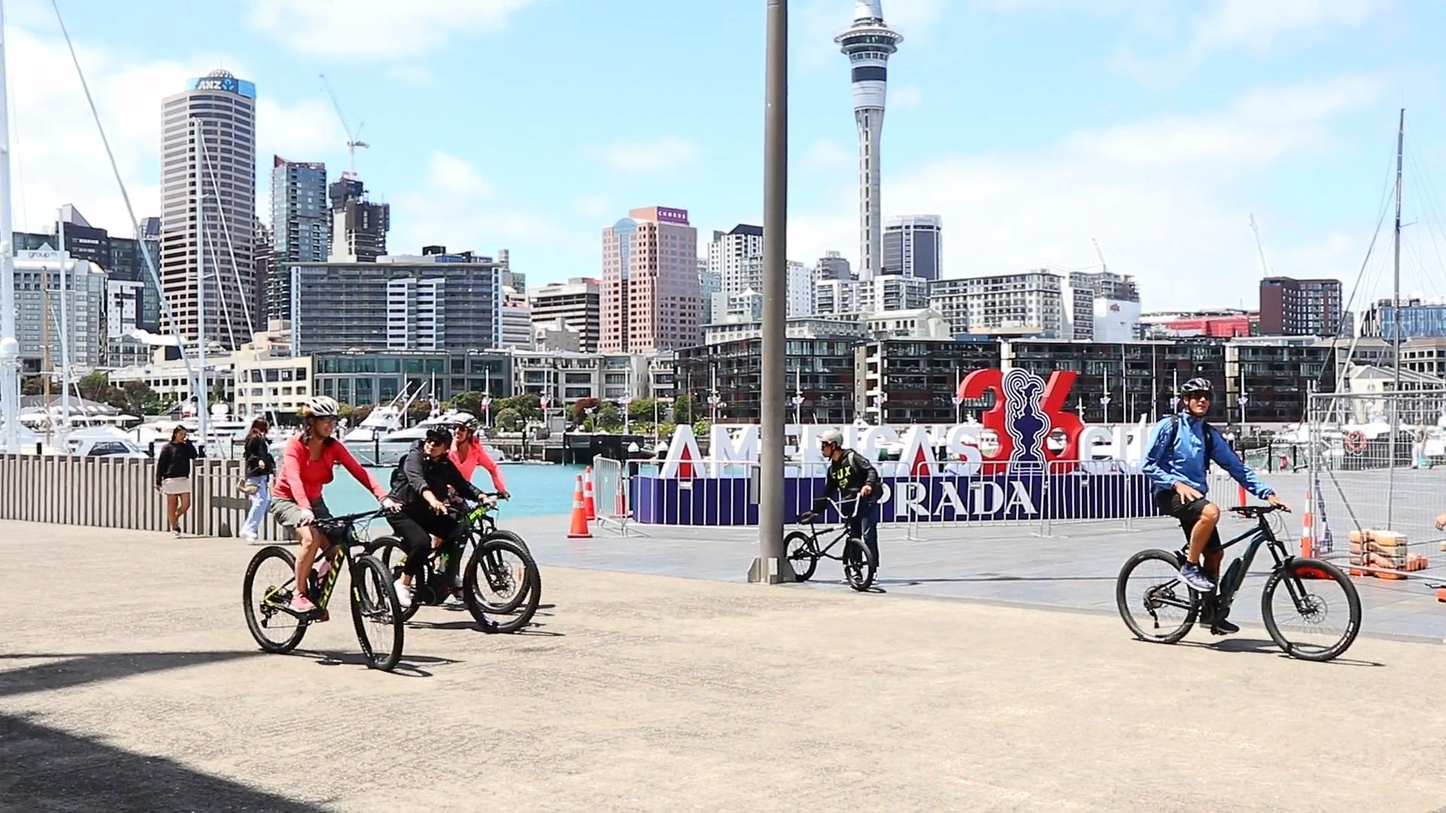bicyclist: (1116, 377, 1361, 661), (242, 396, 405, 671), (358, 425, 541, 634)
helmet: (302, 396, 340, 438), (1181, 378, 1215, 423), (422, 425, 452, 460), (452, 412, 478, 445), (820, 429, 843, 461)
